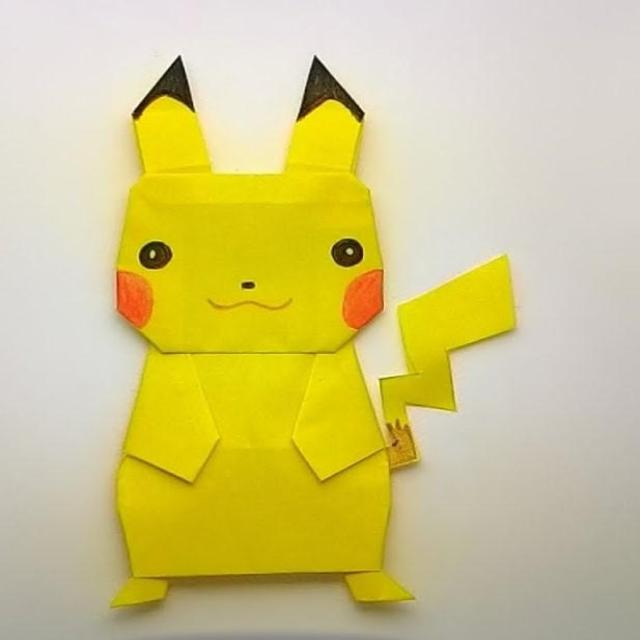pikachu: (112, 57, 517, 609)
